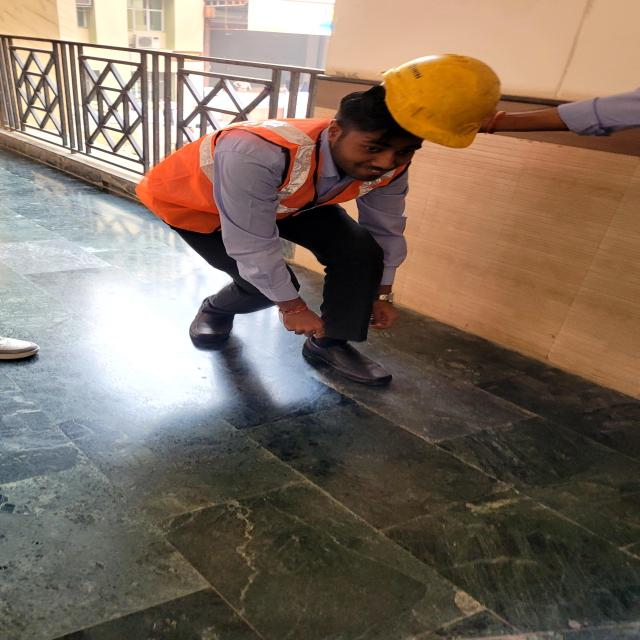safe: (136, 52, 505, 388)
